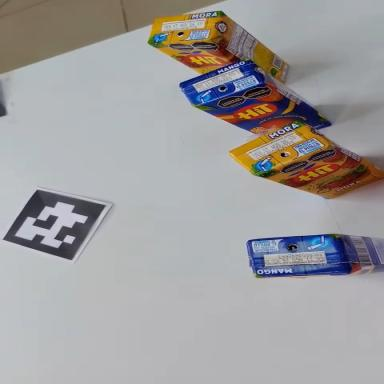HIT-MANGO: (173, 36, 339, 164), (246, 229, 384, 280)
HIT-MORA: (224, 101, 384, 218), (144, 2, 293, 83)
cara_F: (192, 63, 338, 158), (255, 131, 384, 221), (149, 13, 237, 92)
